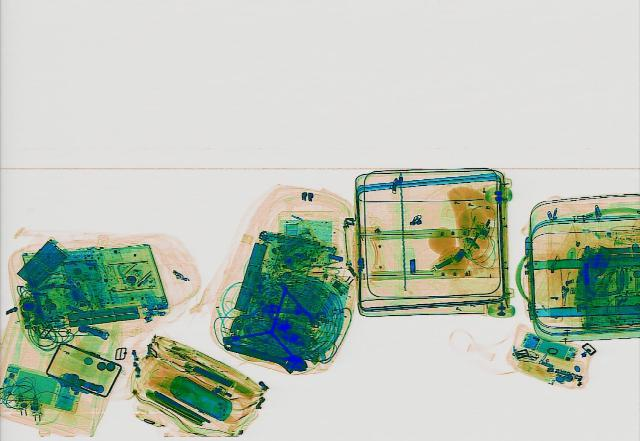Wrench: (263, 301, 329, 320)
